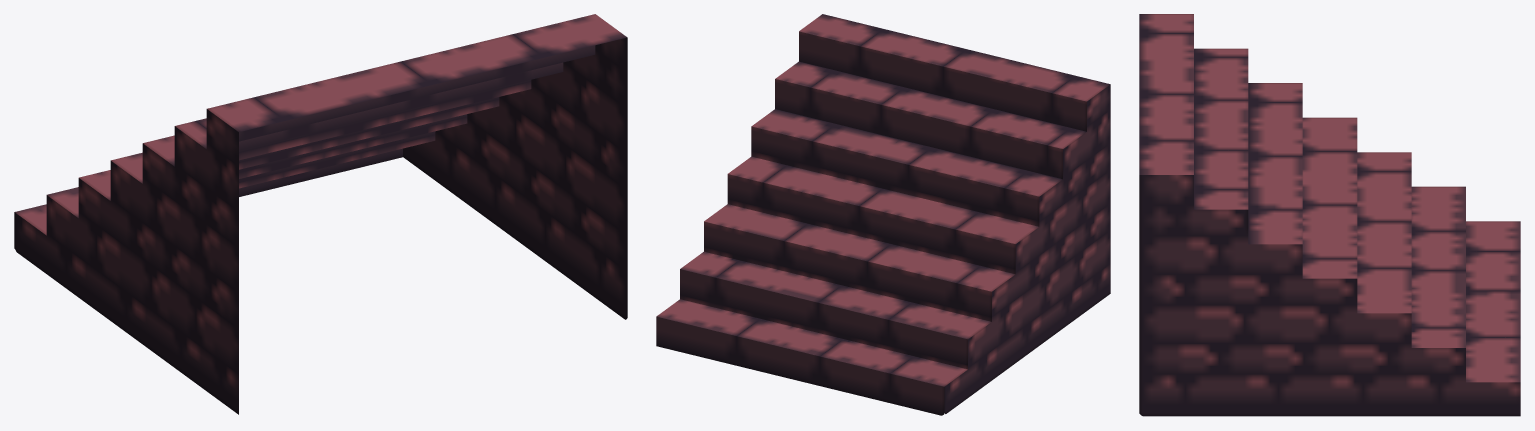
File: stairs_50.fbx
3 renders of one model, left to right at view 1: azimuth 30°, elevation 25°; view 2: azimuth 150°, elevation 25°; view 3: azimuth 270°, elevation 25°, orthographic. The views are drawn at different scales.
Parts seen in each view (by area): view 1: Box010; view 2: Box010; view 3: Box010.
Boxes of the visible parts, x1,y1,x2,y2 form: Box010: [14, 14, 627, 414]; Box010: [656, 14, 1110, 415]; Box010: [1139, 14, 1520, 416].
Bounding box in the file's own units: 78.74 × 78.74 × 55.12.
Materials: 1 (1 with a texture image).
